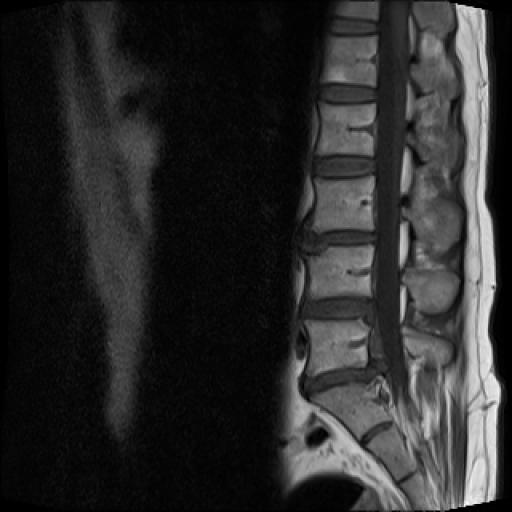L1: (321, 35, 378, 86)
L2: (316, 102, 376, 156)
L3: (312, 175, 374, 233)
L4: (310, 246, 374, 300)
L5: (305, 319, 370, 376)
S1: (310, 383, 393, 438)
